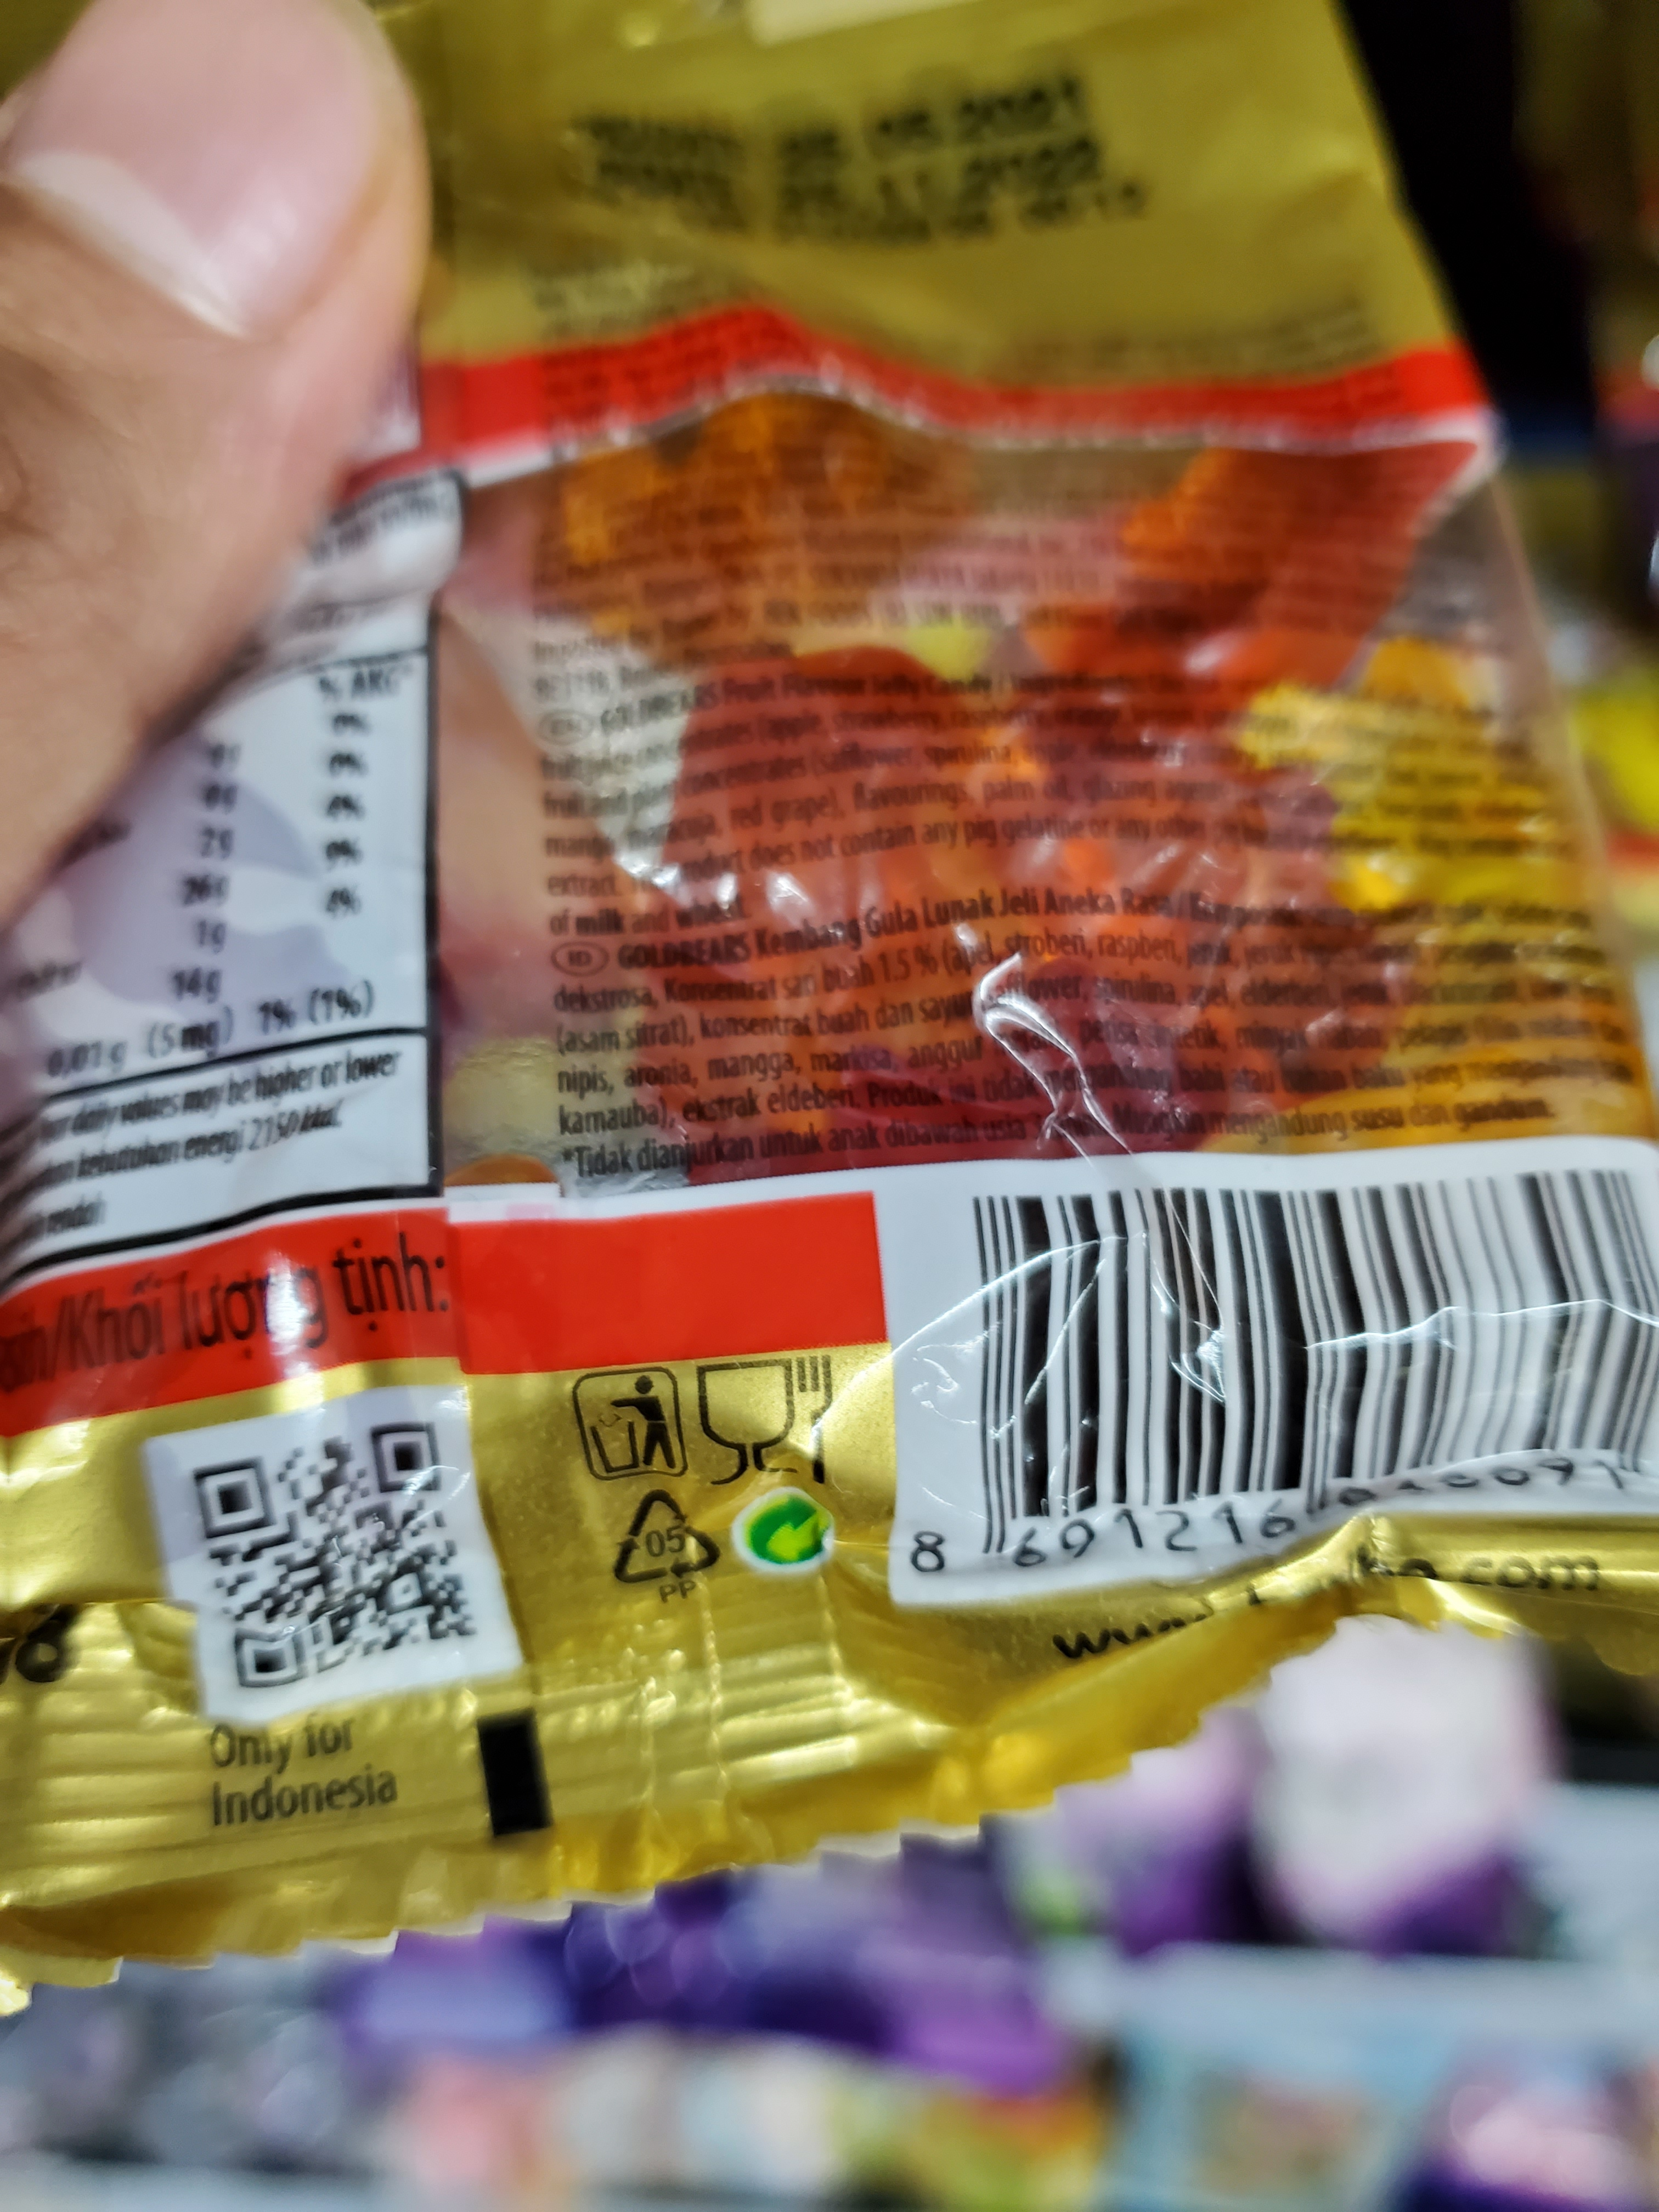BARCODE: (911, 1146, 1659, 1576)
QR CODE: (152, 1413, 483, 1693)
